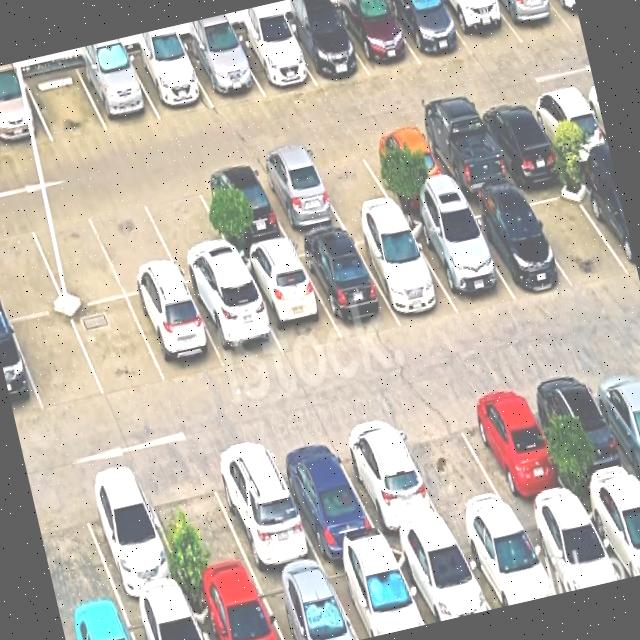empty: (388, 397, 515, 532), (138, 458, 256, 592), (516, 174, 630, 283), (32, 483, 120, 621), (139, 177, 238, 283), (26, 203, 125, 308), (86, 192, 182, 296), (69, 297, 166, 398), (10, 311, 104, 412), (303, 140, 396, 223), (0, 216, 65, 320), (23, 65, 107, 141)
occupied: (203, 437, 320, 576), (455, 382, 576, 516), (73, 470, 187, 606), (328, 415, 449, 543), (266, 429, 382, 560), (528, 366, 640, 499), (458, 193, 569, 299), (404, 207, 515, 313), (237, 244, 341, 356), (294, 231, 399, 339), (349, 220, 458, 322), (127, 285, 225, 383), (454, 518, 557, 609), (323, 548, 424, 640), (517, 504, 621, 593), (186, 273, 283, 368), (390, 536, 491, 624), (414, 112, 513, 199), (194, 164, 289, 253), (251, 151, 344, 238), (254, 565, 358, 640), (359, 126, 454, 207), (474, 97, 565, 179), (572, 165, 638, 274), (582, 356, 640, 476), (525, 85, 611, 165), (333, 0, 420, 76), (282, 9, 369, 85), (127, 45, 213, 120), (76, 54, 160, 130), (230, 24, 316, 95), (183, 35, 263, 107), (385, 0, 472, 65), (188, 580, 282, 640), (581, 485, 640, 578), (437, 0, 522, 57), (0, 318, 43, 419), (0, 76, 52, 153), (124, 594, 206, 640), (493, 0, 572, 43), (62, 609, 135, 640), (551, 0, 581, 30)
